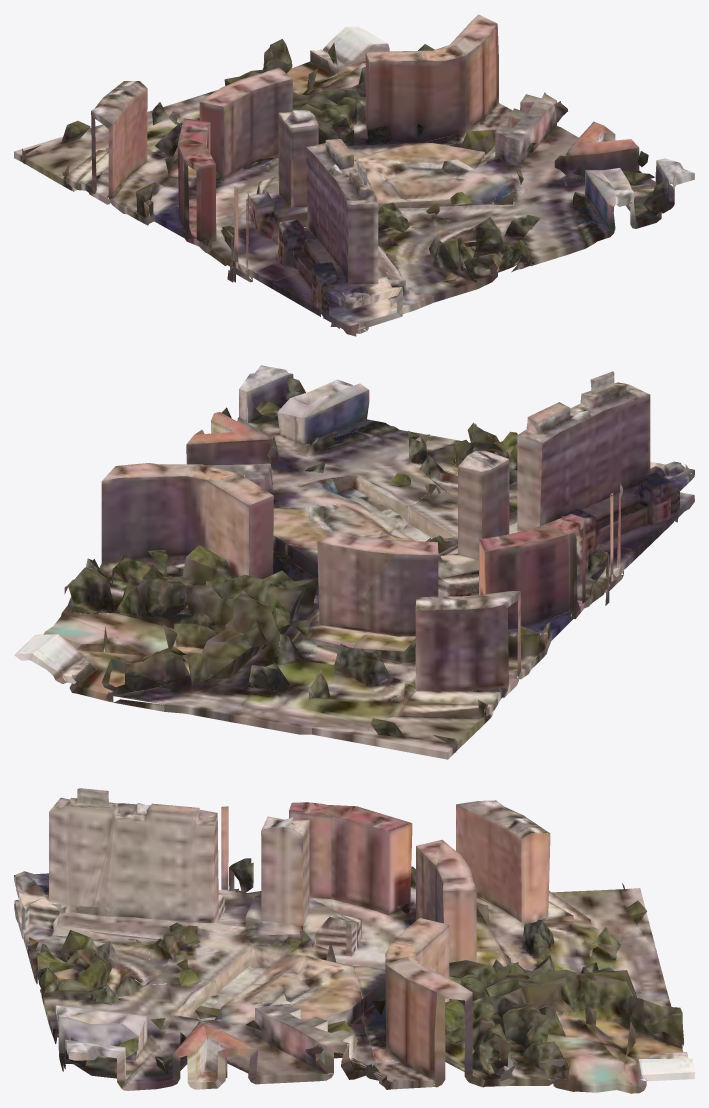
3 renders of one model, top to bottom at view 1: azimuth 30°, elevation 25°; view 2: azimuth 150°, elevation 25°; view 3: azimuth 270°, elevation 25°, orthographic. The views are drawn at different scales.
Visible parts, largest first — view 1: Mesh_0; view 2: Mesh_0; view 3: Mesh_0.
Boxes of the visible parts, x1,y1,x2,y2 form: Mesh_0: [14, 14, 694, 336]; Mesh_0: [14, 365, 694, 759]; Mesh_0: [14, 788, 694, 1093].
Bounding box in the file's own units: 266 × 88.95 × 330.
2 materials, 2 textured.
